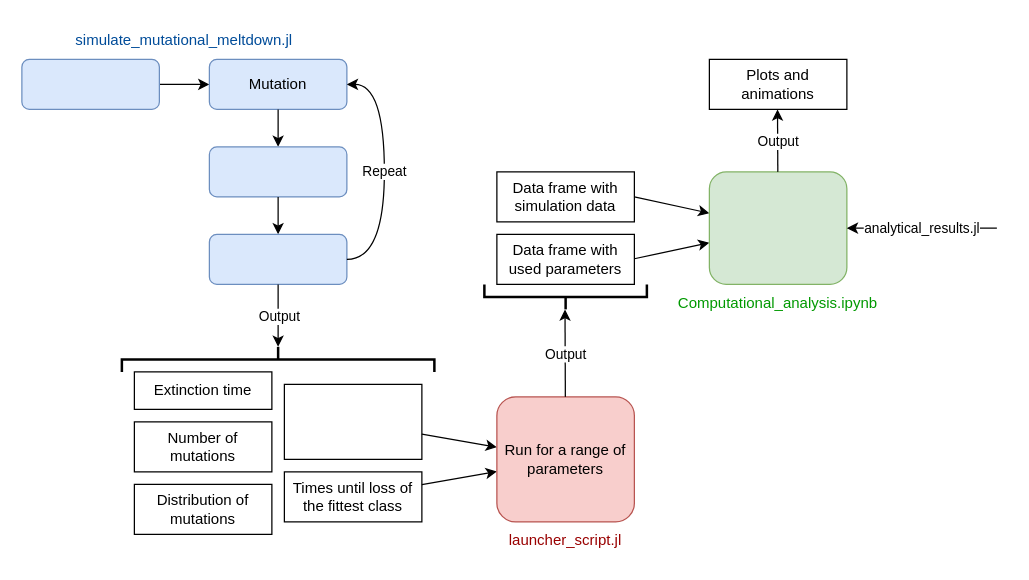
Some shapes in this 1029 by 580 pixel diagram are drawn without their labels. The shapes that lost their labels are listed below. From the top down, each one's centre as x and y in pixels, then its label:
At pixel 90 83: "Initialisation".
At pixel 277 171: "Reproduction".
At pixel 777 227: "Visualisation and comparison with analytical results".
At pixel 277 258: "Population size control".
At pixel 352 421: "Times of pre-ratchet, ratchet and meltdown phase".
